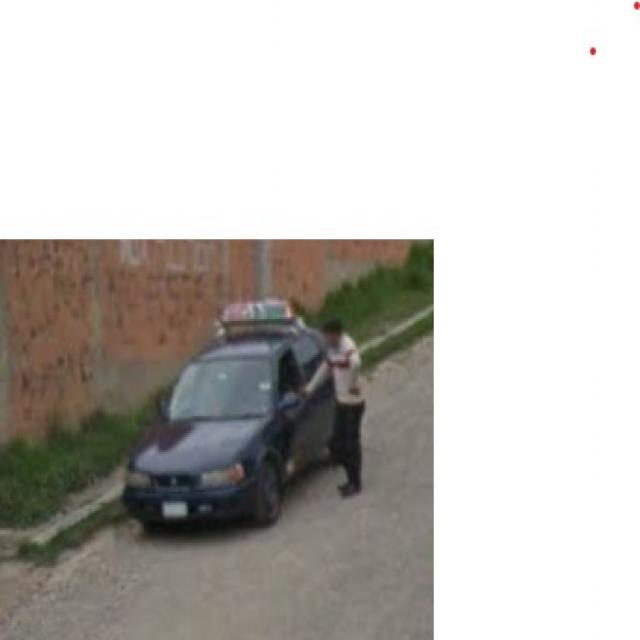Car: (144, 309, 352, 553)
